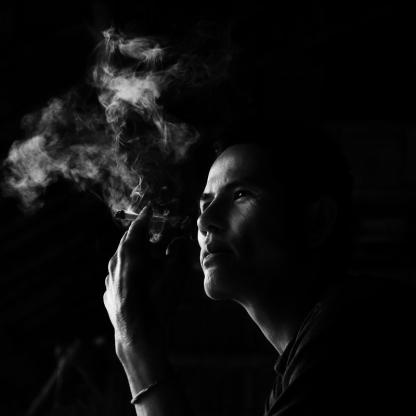smoking: (114, 210, 164, 222)
